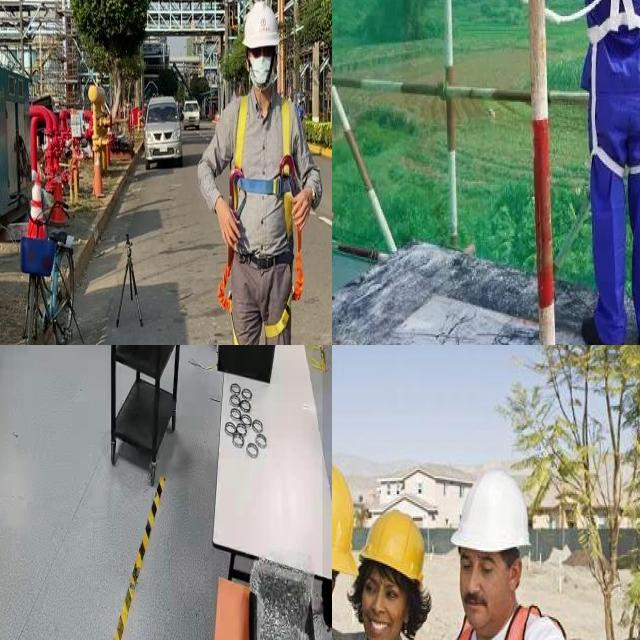Harness: (230, 96, 305, 300), (580, 0, 640, 99)
face_nomask: (456, 552, 510, 616), (357, 576, 408, 638)
head_helmet: (443, 465, 538, 557), (355, 506, 427, 583), (332, 454, 359, 577)
person: (436, 470, 600, 640)
